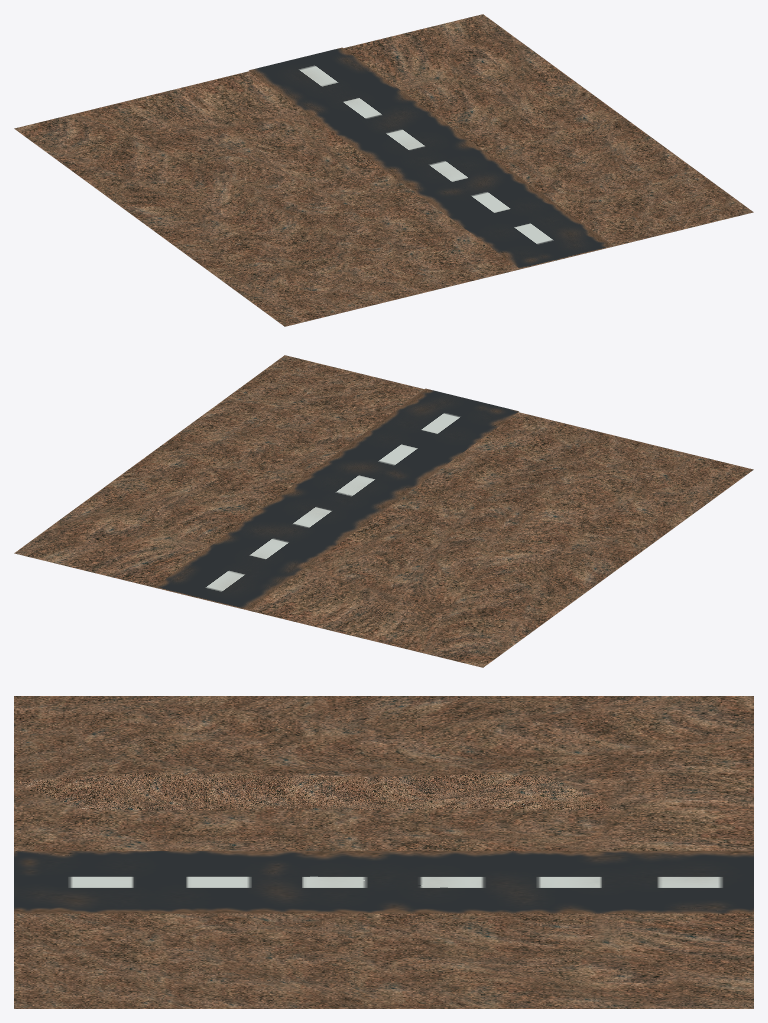
The model's file is ground.glb.
3 views of the same model, one above another, from view 1: azimuth 30°, elevation 25°; view 2: azimuth 150°, elevation 25°; view 3: azimuth 270°, elevation 25° (orthographic). The views are drawn at different scales.
Visible parts, largest first — view 1: Plane, Plane.001; view 2: Plane, Plane.001; view 3: Plane, Plane.001.
Part boxes in pixels (box(x1,y1,x2,y2)): Plane: box(14, 14, 753, 326); Plane.001: box(249, 47, 612, 268); Plane: box(14, 355, 753, 667); Plane.001: box(155, 388, 518, 609); Plane: box(14, 696, 753, 1008); Plane.001: box(14, 851, 753, 913).
Size of the model in its own units: 50 by 0.6809 by 50.
2 materials, 2 textured.
